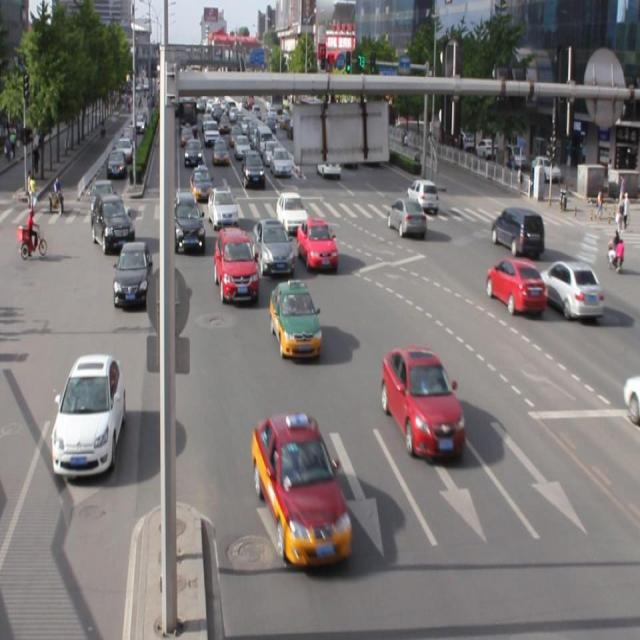car: (238, 401, 361, 584), (369, 338, 477, 466), (40, 348, 134, 488), (482, 252, 550, 330), (268, 282, 330, 356), (483, 202, 550, 258), (216, 225, 262, 304), (81, 196, 137, 257), (296, 213, 345, 281), (113, 241, 158, 315), (253, 212, 300, 280), (381, 198, 435, 249), (166, 195, 211, 255), (272, 188, 310, 238), (241, 146, 272, 196), (186, 166, 220, 205), (176, 133, 213, 168), (272, 141, 300, 187)
